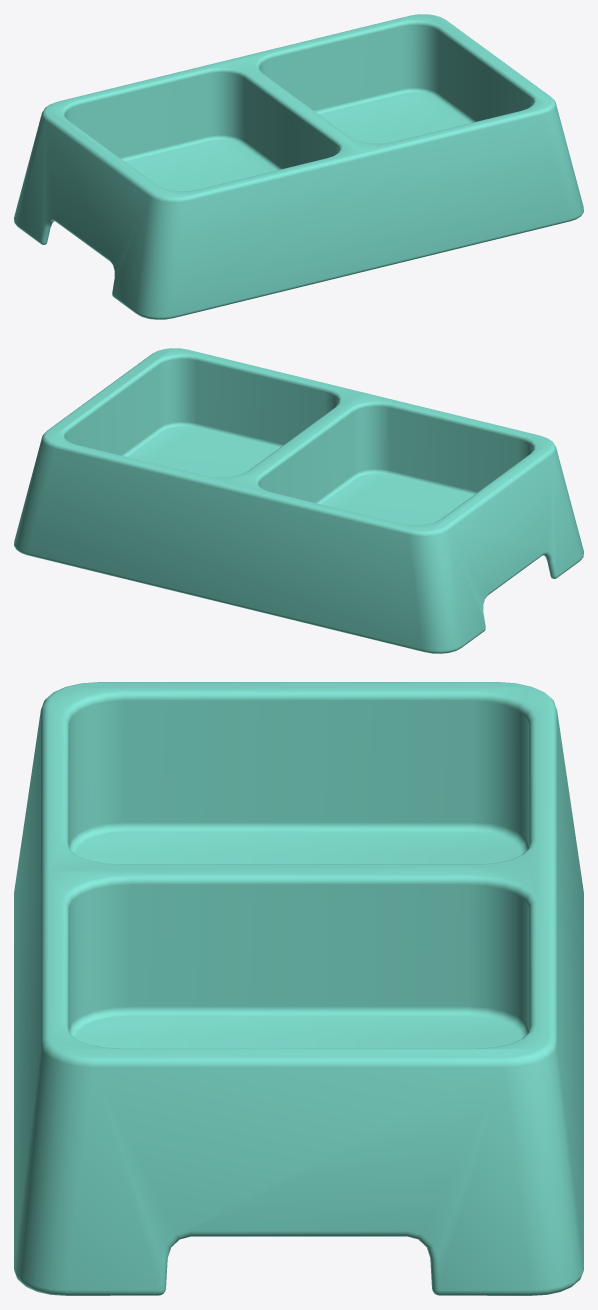
Rendered from pet_food_and_water_bowl.glb.
3 views of the same model, one above another, from view 1: azimuth 30°, elevation 25°; view 2: azimuth 150°, elevation 25°; view 3: azimuth 270°, elevation 25° (orthographic). The views are drawn at different scales.
Visible parts, largest first — view 1: Cube_2; view 2: Cube_2; view 3: Cube_2.
Boxes of the visible parts, box(x1,y1,x2,y2) form: Cube_2: box(14, 14, 583, 319); Cube_2: box(14, 348, 583, 653); Cube_2: box(14, 682, 583, 1295).
Bounding box in the file's own units: 0.67 × 0.1612 × 0.3828.
